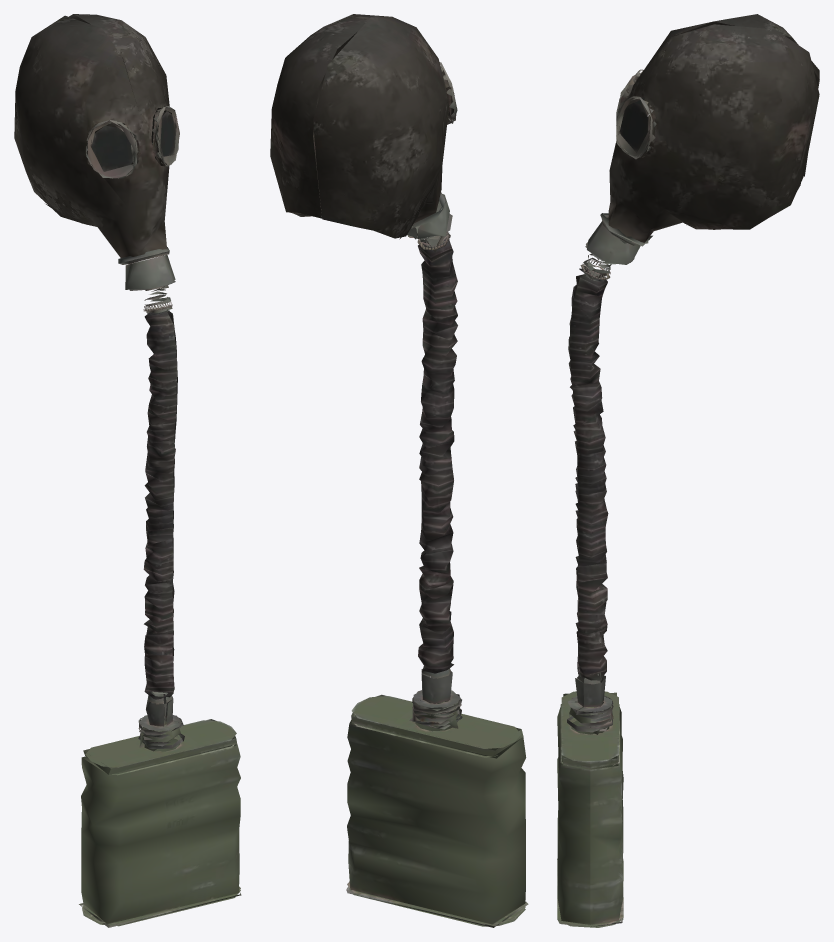
File: old_gas_mask.glb
3 renders of one model, left to right at view 1: azimuth 30°, elevation 25°; view 2: azimuth 150°, elevation 25°; view 3: azimuth 270°, elevation 25°, orthographic. The views are drawn at different scales.
Parts seen in each view (by area): view 1: old_gas_mask; view 2: old_gas_mask; view 3: old_gas_mask.
Part boxes in pixels (x1,y1,x2,y2): old_gas_mask: [14, 14, 241, 927]; old_gas_mask: [270, 14, 528, 927]; old_gas_mask: [557, 14, 819, 927].
Size of the model in its own units: 0.2098 by 1.13 by 0.3086.
1 material, 1 textured.
